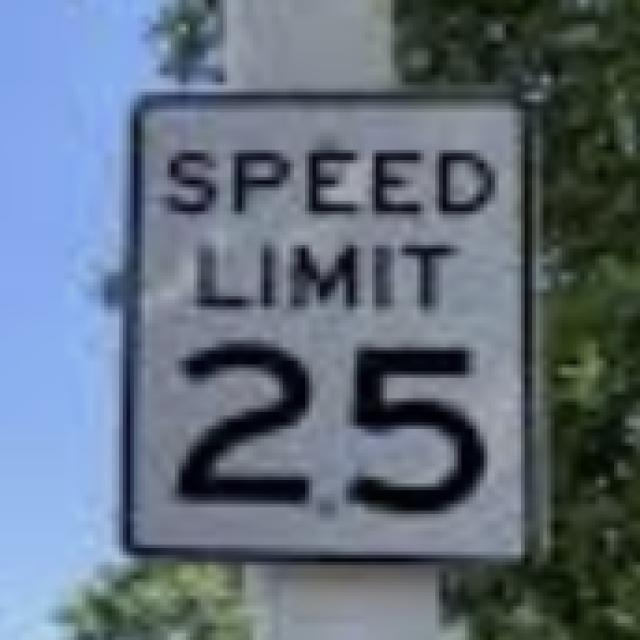speedLimit25: (124, 90, 535, 563)
